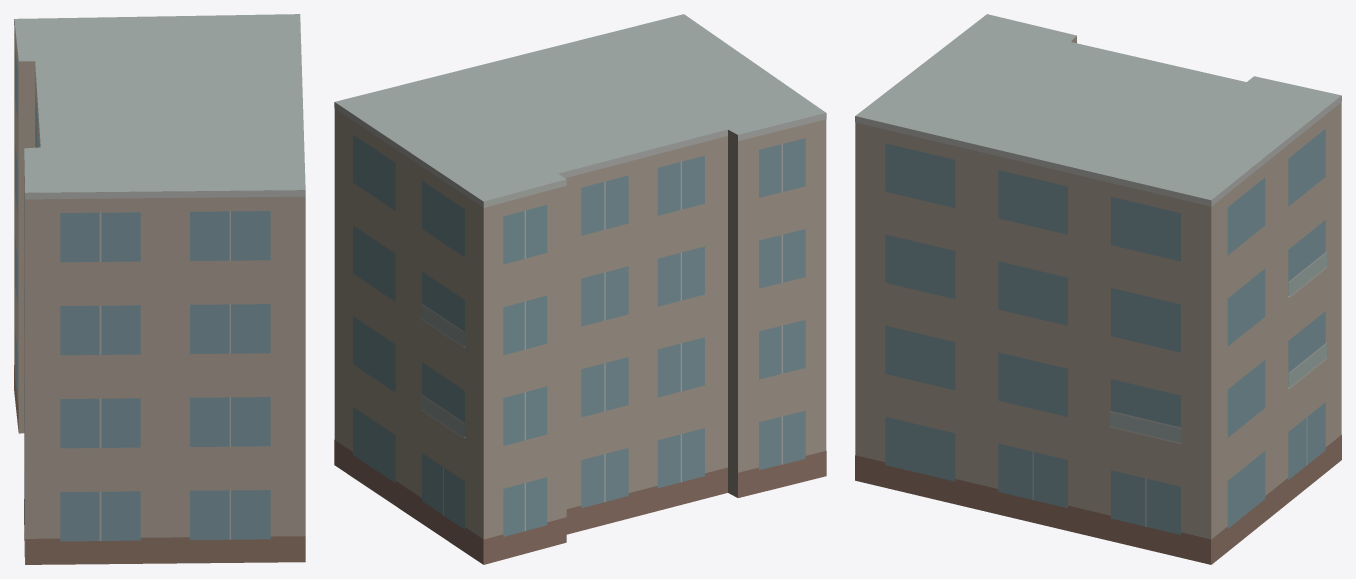
File: survey-upis-32878568.glb
The picture shows the model from 3 angles, left to right: view 1: azimuth 30°, elevation 25°; view 2: azimuth 150°, elevation 25°; view 3: azimuth 270°, elevation 25°; orthographic projection. The views are drawn at different scales.
Visible parts, largest first — view 1: survey-upis-32878568.tmp; view 2: survey-upis-32878568.tmp; view 3: survey-upis-32878568.tmp.
Boxes of the visible parts, bbox=[...] form: survey-upis-32878568.tmp: bbox=[14, 14, 305, 564]; survey-upis-32878568.tmp: bbox=[334, 14, 826, 564]; survey-upis-32878568.tmp: bbox=[855, 14, 1341, 564].
Size of the model in its own units: 15.24 by 13.9 by 16.82.
